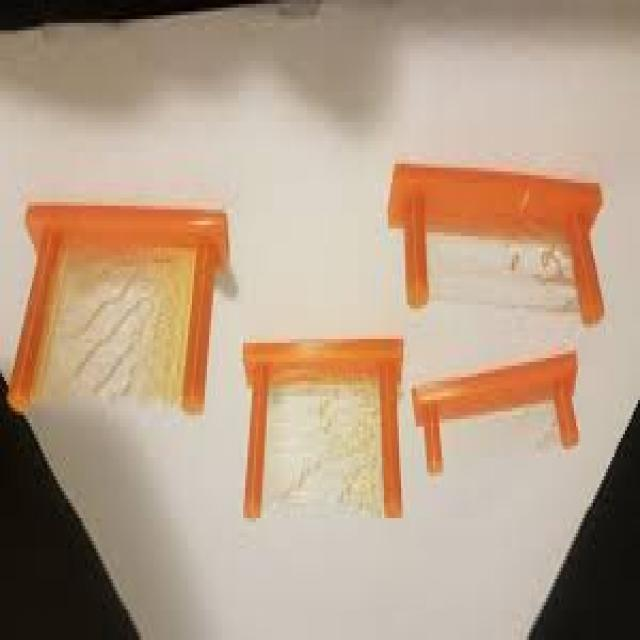Stringing: (107, 263, 187, 389), (296, 385, 374, 507)
